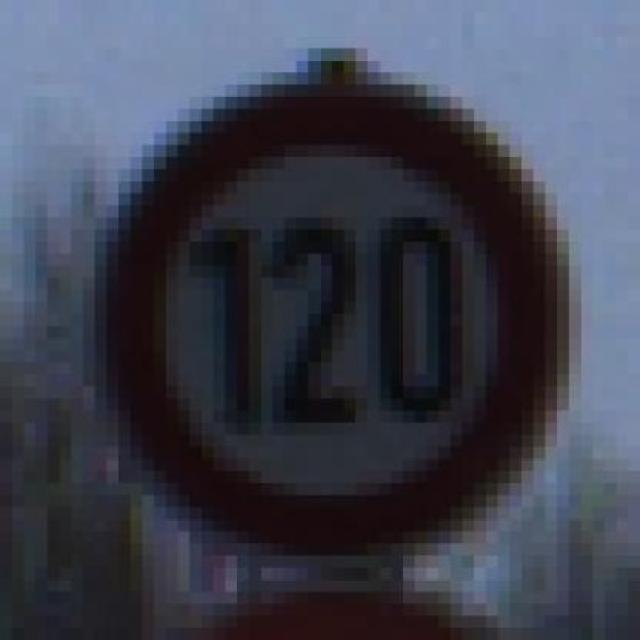forb_speed_over_120: (99, 84, 564, 553)
